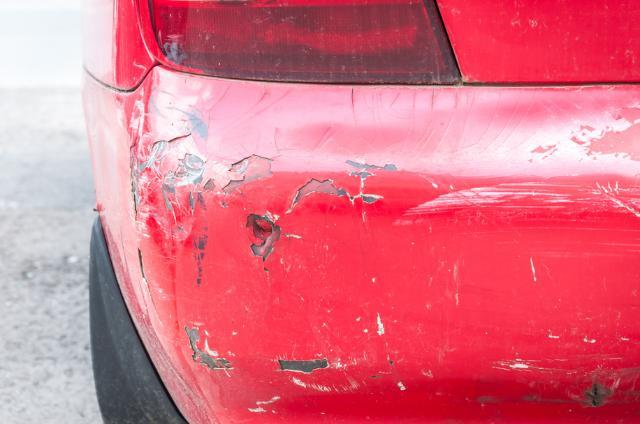Bumper: (86, 72, 640, 424)
